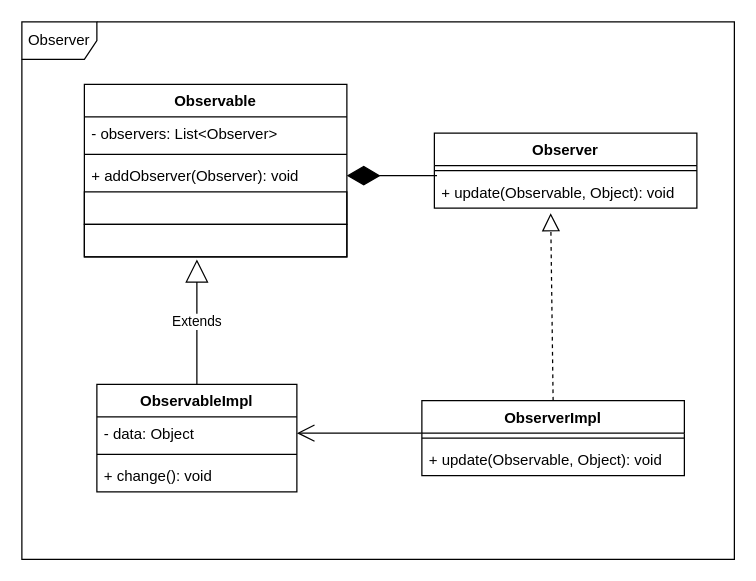
The diagram is 756 pixels wide and 581 high, and some of its shapes have lost their labels. Each missing label, with the centre of its shape:
+ notifyObservers(Object): void: (x=215, y=240)
+ removeObserver(Observer): void: (x=215, y=207)
